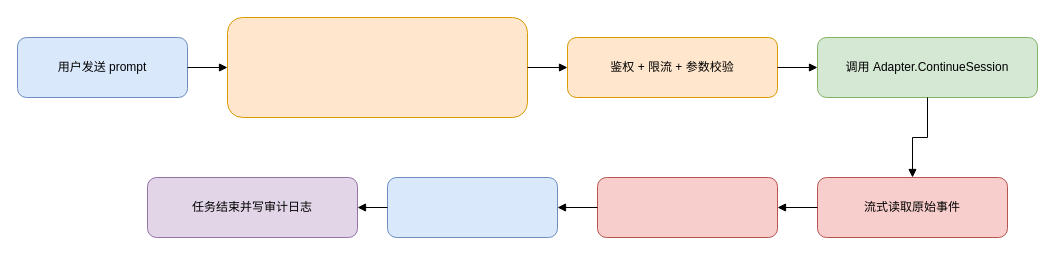
The diagram is 1055 pixels wide and 255 high, and some of its shapes have lost their labels. The shapes that lost their labels are listed below. From the top down, each one's centre as x and y in pixels, then its label:
At point (377, 67): "POST /api/v1/adapters/{adapter}/sessions/{id}/continue".
At point (472, 207): "WS 推送时间线".
At point (687, 207): "统一模型映射".
